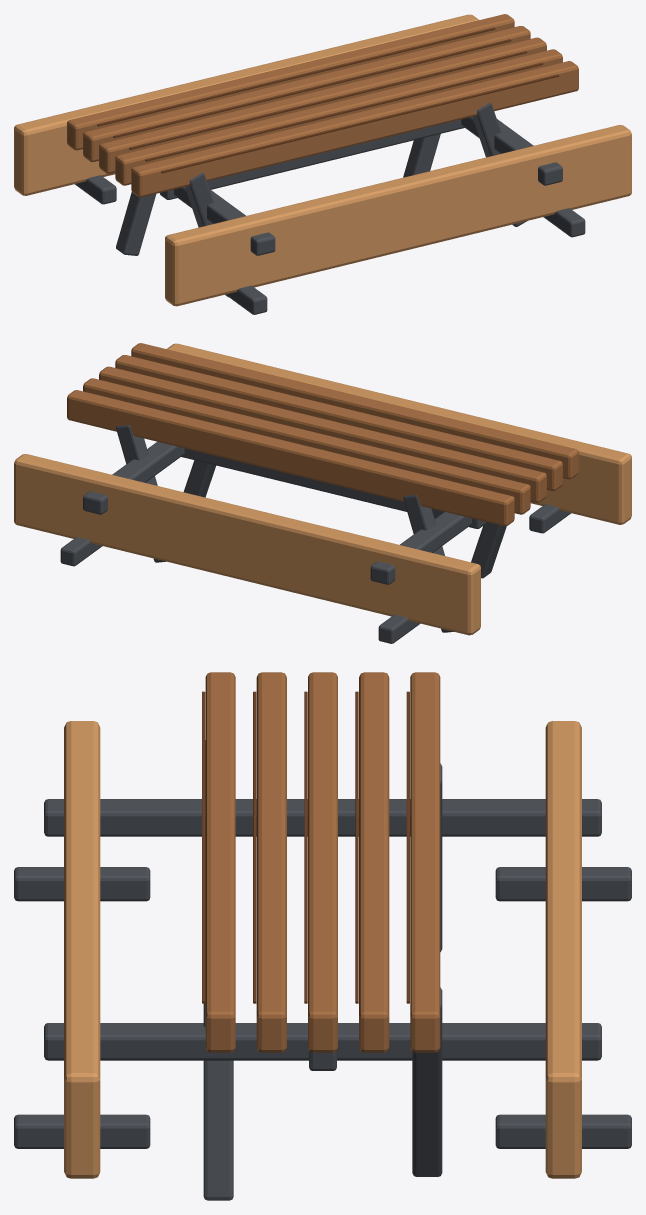
Rendered from mesa-de-piquenique-beco.glb.
The picture shows the model from 3 angles, top to bottom: view 1: azimuth 30°, elevation 25°; view 2: azimuth 150°, elevation 25°; view 3: azimuth 270°, elevation 25°; orthographic projection. The views are drawn at different scales.
Parts seen in each view (by area): view 1: Banco lateral, Tábua do tampo, Banco lateral.001, Tábua do tampo.001, Tábua do tampo.002, Tábua do tampo.004, Tábua do tampo.003, Travessa central, Pé inclinado.001, Travessa da mesa, Travessa da mesa.001, Veio do tampo.001 (+10 smaller); view 2: Banco lateral.001, Tábua do tampo.004, Banco lateral, Tábua do tampo.003, Tábua do tampo.002, Tábua do tampo, Tábua do tampo.001, Travessa central, Travessa da mesa, Travessa da mesa.001, Pé inclinado, Pé inclinado.001 (+5 smaller); view 3: Banco lateral, Banco lateral.001, Travessa da mesa.001, Travessa da mesa, Tábua do tampo, Tábua do tampo.004, Tábua do tampo.001, Tábua do tampo.003, Tábua do tampo.002, Pé inclinado.002, Pé inclinado.003, Pé do banco (+8 smaller).
Part boxes in pixels (bbox=[...]): Banco lateral: bbox=[165, 125, 631, 306]; Tábua do tampo: bbox=[131, 61, 578, 197]; Banco lateral.001: bbox=[14, 14, 479, 195]; Tábua do tampo.001: bbox=[115, 49, 562, 185]; Tábua do tampo.002: bbox=[99, 37, 546, 173]; Tábua do tampo.004: bbox=[67, 14, 514, 150]; Tábua do tampo.003: bbox=[83, 26, 530, 162]; Travessa central: bbox=[159, 119, 464, 199]; Pé inclinado.001: bbox=[116, 192, 156, 255]; Travessa da mesa: bbox=[174, 187, 275, 255]; Travessa da mesa.001: bbox=[461, 117, 562, 185]; Veio do tampo.001: bbox=[145, 62, 543, 161]; Banco lateral.001: bbox=[14, 454, 480, 635]; Tábua do tampo.004: bbox=[67, 390, 514, 526]; Banco lateral: bbox=[166, 343, 631, 524]; Tábua do tampo.003: bbox=[83, 378, 530, 514]; Tábua do tampo.002: bbox=[99, 366, 546, 502]; Tábua do tampo: bbox=[131, 343, 578, 479]; Tábua do tampo.001: bbox=[115, 355, 562, 491]; Travessa central: bbox=[181, 448, 486, 528]; Travessa da mesa: bbox=[370, 512, 471, 584]; Travessa da mesa.001: bbox=[83, 441, 184, 514]; Pé inclinado: bbox=[471, 522, 506, 578]; Pé inclinado.001: bbox=[403, 495, 453, 632]; Banco lateral: bbox=[64, 721, 100, 1178]; Banco lateral.001: bbox=[545, 721, 581, 1178]; Travessa da mesa.001: bbox=[44, 1023, 601, 1060]; Travessa da mesa: bbox=[44, 799, 601, 836]; Tábua do tampo: bbox=[205, 672, 235, 1052]; Tábua do tampo.004: bbox=[410, 672, 440, 1052]; Tábua do tampo.001: bbox=[256, 672, 286, 1052]; Tábua do tampo.003: bbox=[359, 672, 389, 1052]; Tábua do tampo.002: bbox=[308, 672, 337, 1052]; Pé inclinado.002: bbox=[203, 964, 233, 1200]; Pé inclinado.003: bbox=[412, 987, 442, 1176]; Pé do banco: bbox=[14, 867, 150, 901].
Size of the model in its own units: 4.22 by 1.28 by 3.08.
